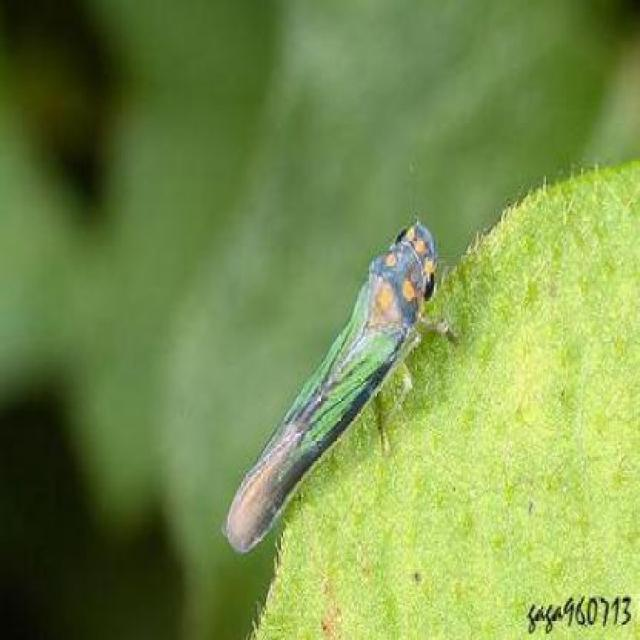green-leafhopper: (221, 216, 462, 547)
